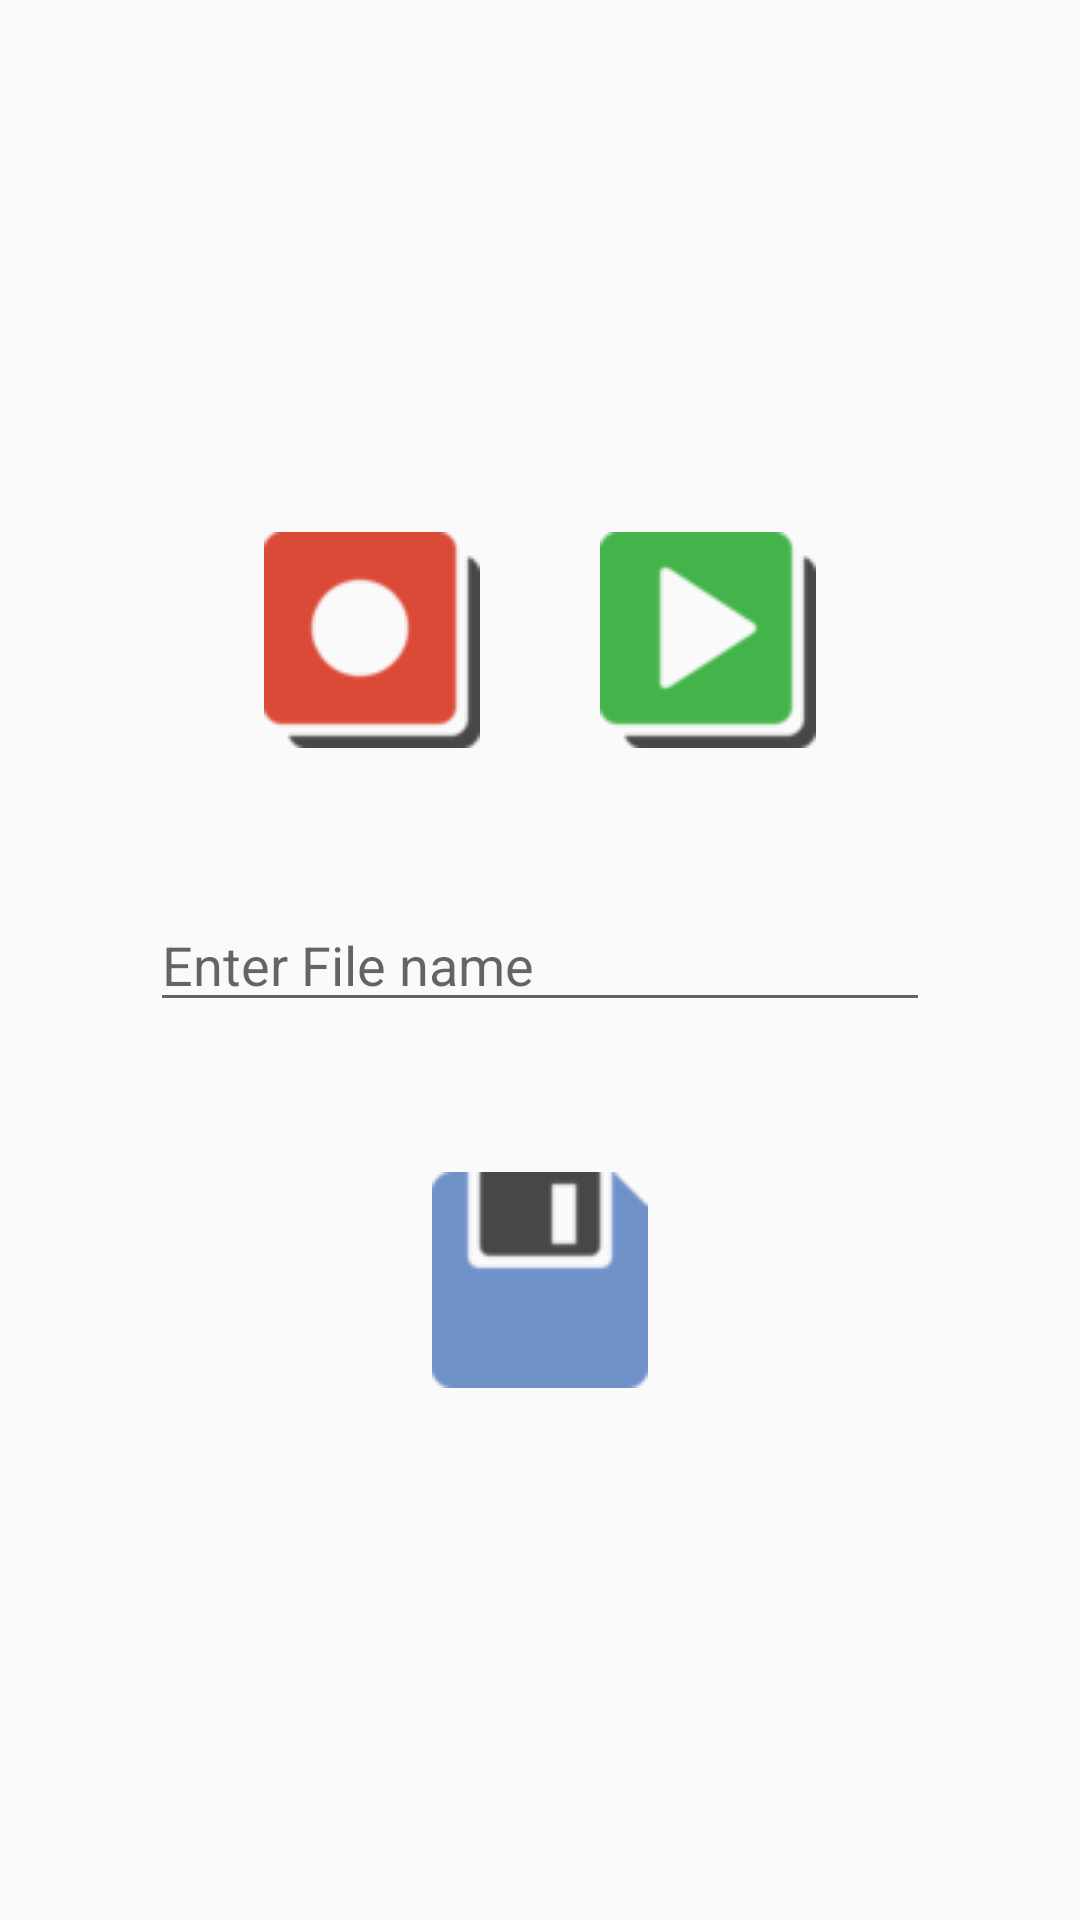

Point at icon controls on the screen. Image size 1080w x 1920h, points as (x,y).
play: (708,640)
record: (372,640)
save: (540,1280)
